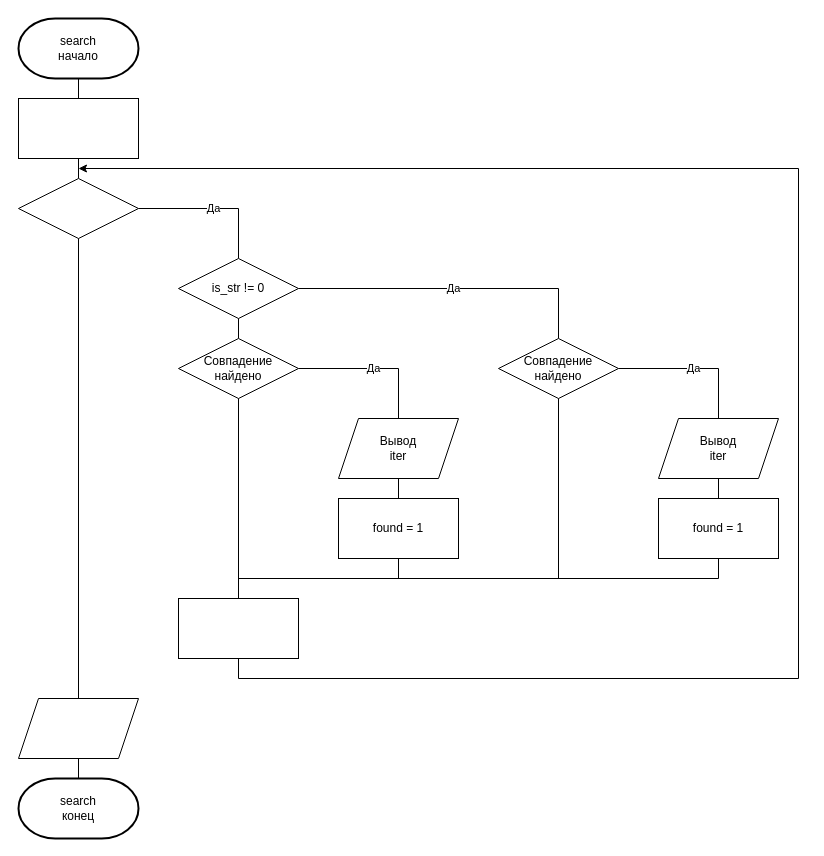
Image size: 824x856. Some labels were removed from this diagram. Each missing label, with the box of its shape:
iter != 0: (18, 178, 138, 238)
iter = list.first found = 0: (18, 98, 138, 158)
iter = следующий элемент (iter): (178, 598, 298, 658)
Вывод found: (18, 698, 138, 758)
